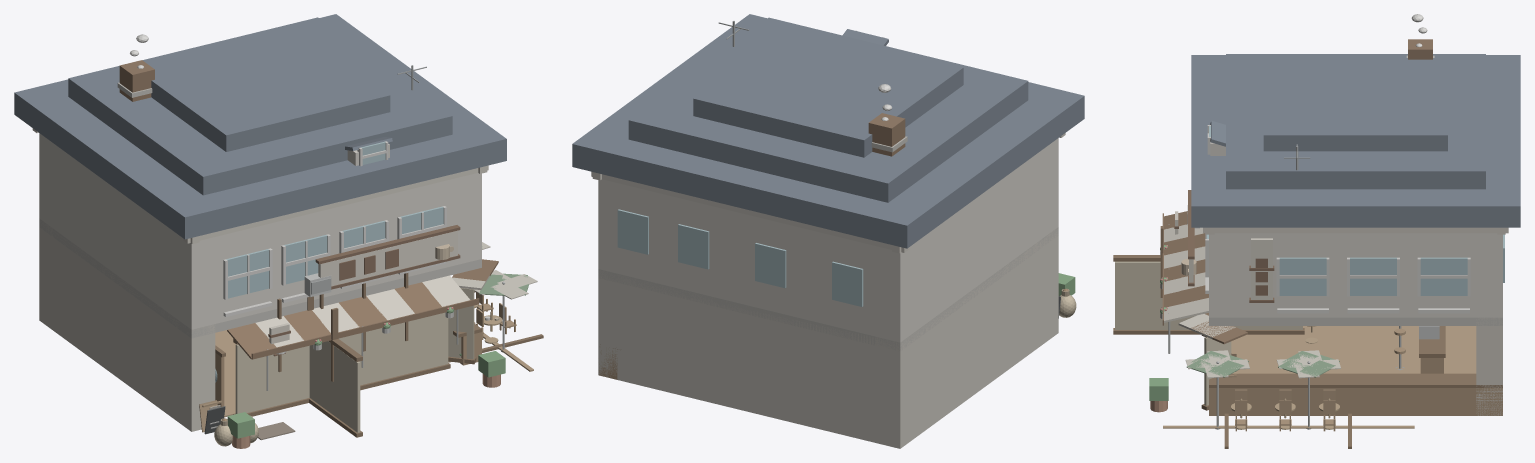
The model's file is cafe_03.glb.
The picture shows the model from 3 angles, left to right: view 1: azimuth 30°, elevation 25°; view 2: azimuth 150°, elevation 25°; view 3: azimuth 270°, elevation 25°; orthographic projection. The views are drawn at different scales.
Visible parts, largest first — view 1: cafe_82_96_114, cafe_244_236_220, cafe_230_220_202, cafe_214_196_158, cafe_110_76_52, cafe_156_202_214, cafe_202_198_186, cafe_238_228_206, cafe_246_244_238, cafe_104_74_50, cafe_240_230_208, cafe_92_62_44 (+4 smaller); view 2: cafe_82_96_114, cafe_230_220_202, cafe_244_236_220, cafe_156_202_214, cafe_202_198_186, cafe_110_76_52; view 3: cafe_82_96_114, cafe_244_236_220, cafe_176_134_92, cafe_158_116_78, cafe_104_74_50, cafe_156_202_214, cafe_230_220_202, cafe_214_196_158, cafe_238_228_206, cafe_110_76_52, cafe_246_244_238, cafe_202_198_186 (+6 smaller).
Boxes of the visible parts, left/top/right/bottom form: cafe_82_96_114: left=14, top=14, right=506, bottom=239; cafe_244_236_220: left=39, top=133, right=481, bottom=329; cafe_230_220_202: left=32, top=128, right=488, bottom=431; cafe_214_196_158: left=235, top=288, right=474, bottom=432; cafe_110_76_52: left=119, top=60, right=498, bottom=359; cafe_156_202_214: left=215, top=141, right=443, bottom=382; cafe_202_198_186: left=39, top=82, right=481, bottom=338; cafe_238_228_206: left=255, top=242, right=537, bottom=347; cafe_246_244_238: left=130, top=34, right=446, bottom=316; cafe_104_74_50: left=215, top=273, right=543, bottom=437; cafe_240_230_208: left=269, top=230, right=457, bottom=343; cafe_92_62_44: left=268, top=225, right=460, bottom=356; cafe_82_96_114: left=572, top=14, right=1084, bottom=248; cafe_230_220_202: left=591, top=133, right=1065, bottom=448; cafe_244_236_220: left=598, top=138, right=1058, bottom=342; cafe_156_202_214: left=617, top=209, right=863, bottom=306; cafe_202_198_186: left=598, top=136, right=1058, bottom=351; cafe_110_76_52: left=868, top=113, right=905, bottom=156; cafe_82_96_114: left=1191, top=54, right=1520, bottom=227; cafe_244_236_220: left=1209, top=142, right=1502, bottom=317; cafe_176_134_92: left=1163, top=326, right=1476, bottom=428; cafe_158_116_78: left=1209, top=358, right=1502, bottom=415; cafe_104_74_50: left=1113, top=226, right=1502, bottom=448; cafe_156_202_214: left=1206, top=126, right=1504, bottom=295; cafe_230_220_202: left=1203, top=227, right=1508, bottom=415; cafe_214_196_158: left=1115, top=261, right=1302, bottom=405; cafe_238_228_206: left=1164, top=224, right=1340, bottom=378; cafe_110_76_52: left=1162, top=39, right=1432, bottom=344; cafe_246_244_238: left=1205, top=14, right=1470, bottom=313; cafe_202_198_186: left=1209, top=55, right=1502, bottom=325.
Size of the model in its own units: 14.25 by 11.07 by 13.85.
